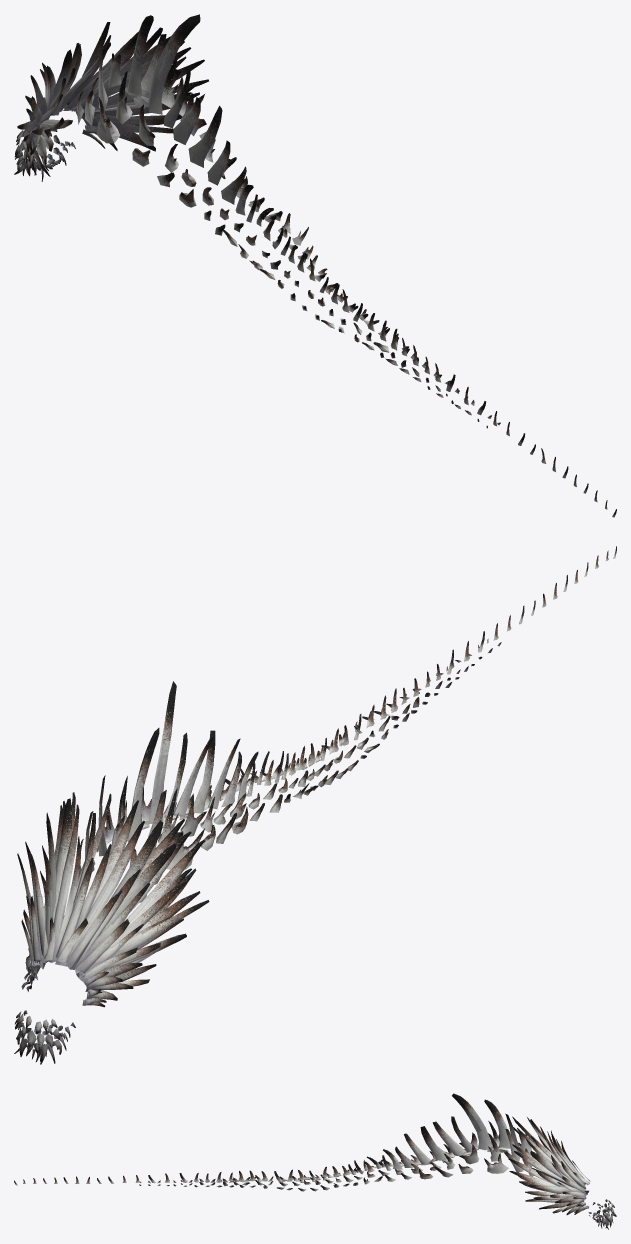
The model's file is picosd0.obj.
3 renders of one model, top to bottom at view 1: azimuth 30°, elevation 25°; view 2: azimuth 150°, elevation 25°; view 3: azimuth 270°, elevation 25°, orthographic. The views are drawn at different scales.
Parts seen in each view (by area): view 1: 003dwbewilderbeastspikesmesh1; view 2: 003dwbewilderbeastspikesmesh1; view 3: 003dwbewilderbeastspikesmesh1.
Part boxes in pixels (<box>): 003dwbewilderbeastspikesmesh1: <box>14,14,616,517</box>; 003dwbewilderbeastspikesmesh1: <box>14,546,616,1064</box>; 003dwbewilderbeastspikesmesh1: <box>14,1093,616,1229</box>.
Size of the model in its own units: 25.09 by 33.89 by 134.
1 material, 1 textured.
